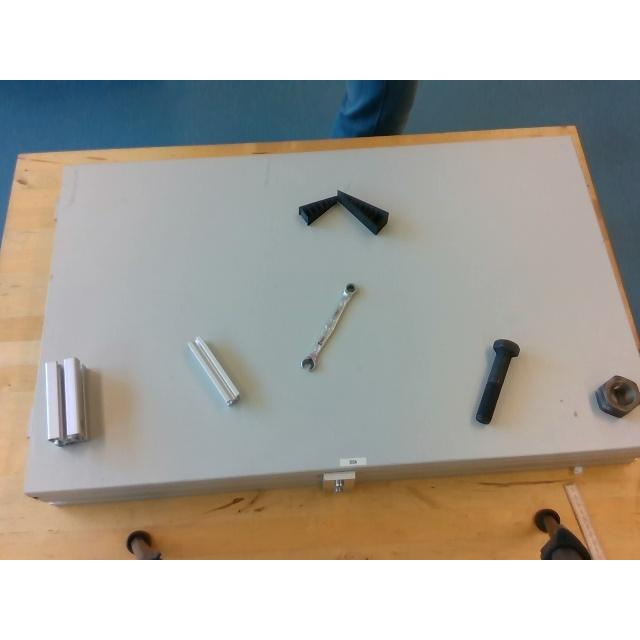F20_20_G: (188, 336, 240, 404)
M20_100: (474, 339, 518, 423)
M30: (595, 376, 639, 416)
S40_40_G: (45, 360, 87, 444)
Wrench: (300, 283, 356, 369)
